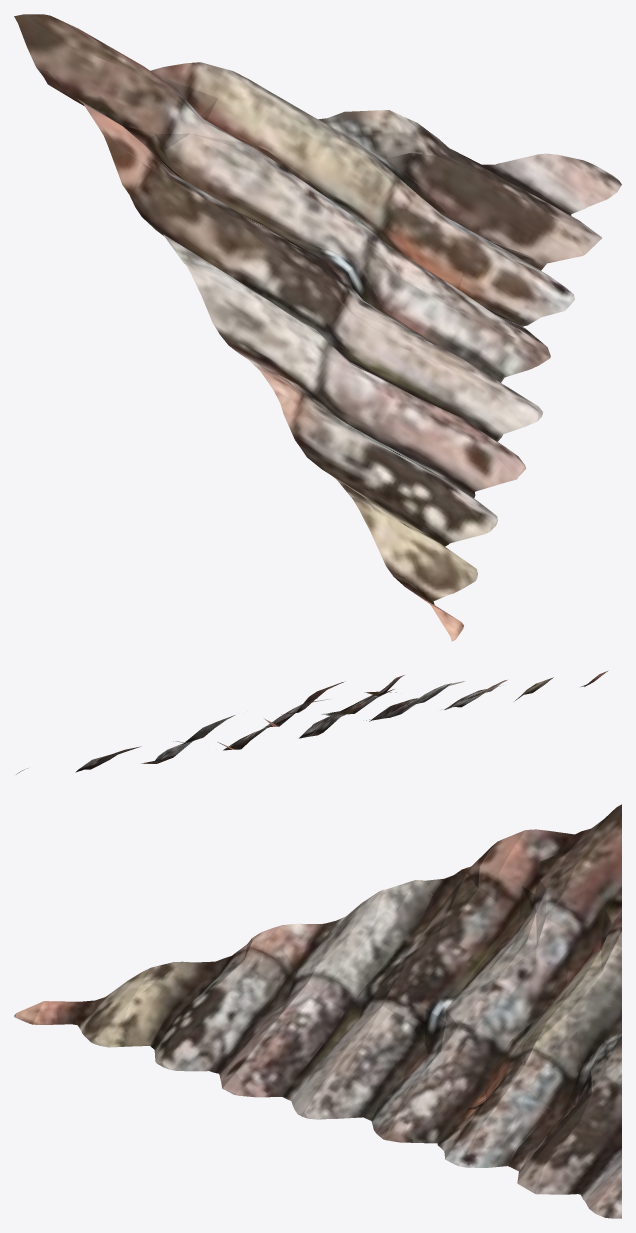
3 views of the same model, one above another, from view 1: azimuth 30°, elevation 25°; view 2: azimuth 150°, elevation 25°; view 3: azimuth 270°, elevation 25° (orthographic). The views are drawn at different scales.
Size of the model in its own units: 1.08 by 0.5257 by 1.37.
Materials: 1 (1 with a texture image).
